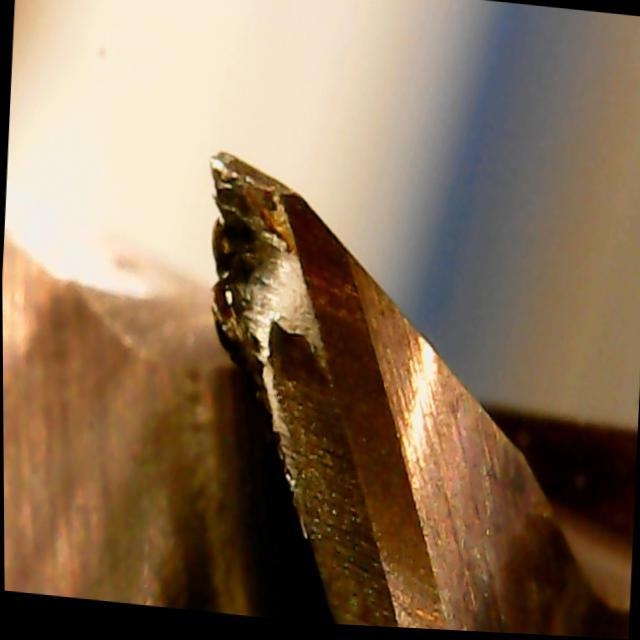Tool-wear-class-3: (193, 125, 392, 377)
